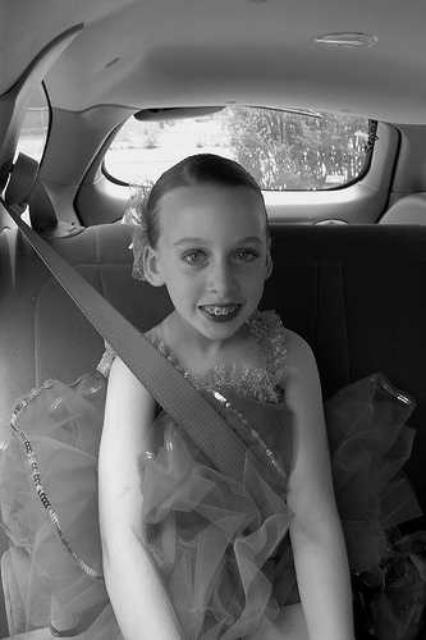SafeDriving: (176, 240, 212, 269), (226, 240, 264, 266)
Seatbelt: (0, 192, 264, 488)
